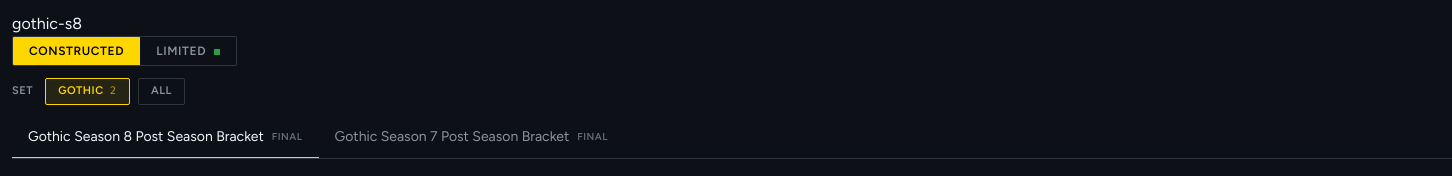
Test: BracketSwitcher formats › switches to the live Limited bracket
Click the button "Limited" at {"x": 188, "y": 51}, box [140,37,236,65]
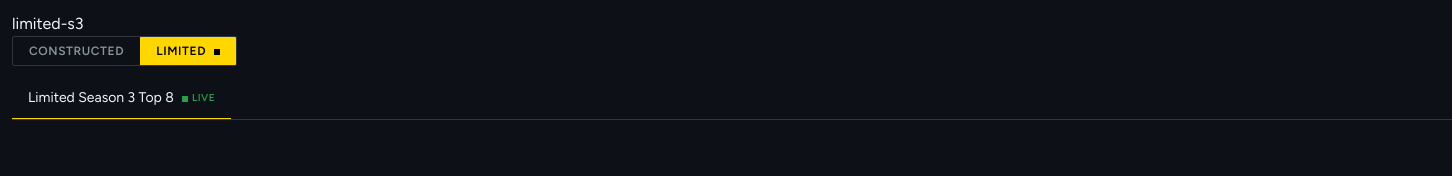
Now the text with test id "slug" reads "limited-s3", box [12,14,84,33]
